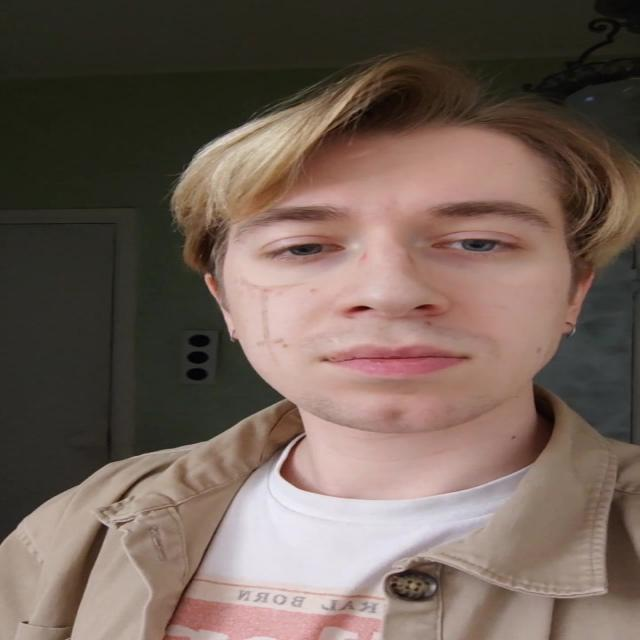earlobe: (558, 256, 598, 335), (204, 273, 242, 341)
